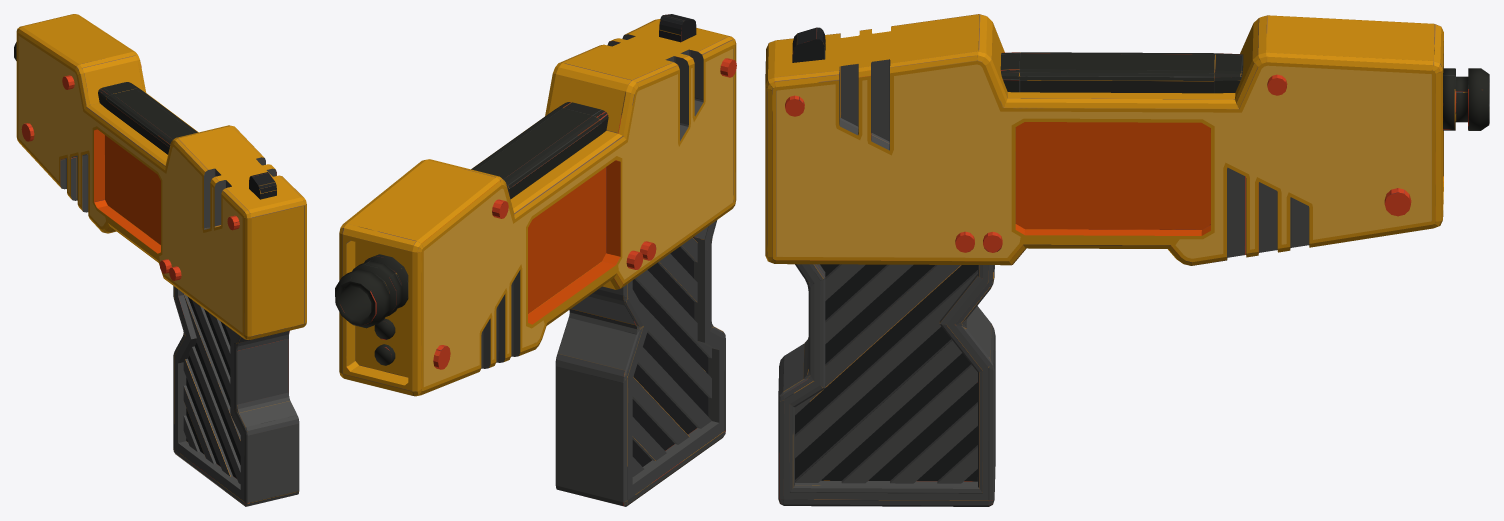
The model's file is gun2.gltf.
3 renders of one model, left to right at view 1: azimuth 30°, elevation 25°; view 2: azimuth 150°, elevation 25°; view 3: azimuth 270°, elevation 25°, orthographic. The views are drawn at different scales.
Visible parts, largest first — view 1: Ridges in handle.001; view 2: Ridges in handle.001; view 3: Ridges in handle.001.
Boxes of the visible parts, <box> form: Ridges in handle.001: <box>14,14,306,506</box>; Ridges in handle.001: <box>335,14,736,506</box>; Ridges in handle.001: <box>765,14,1489,506</box>.
Bounding box in the file's own units: 0.3377 × 1.32 × 1.9.
7 materials, 7 textured.
